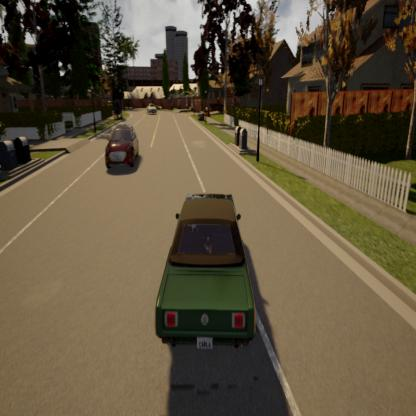Cars: (150, 189, 262, 358), (103, 121, 142, 175), (144, 102, 158, 118)
